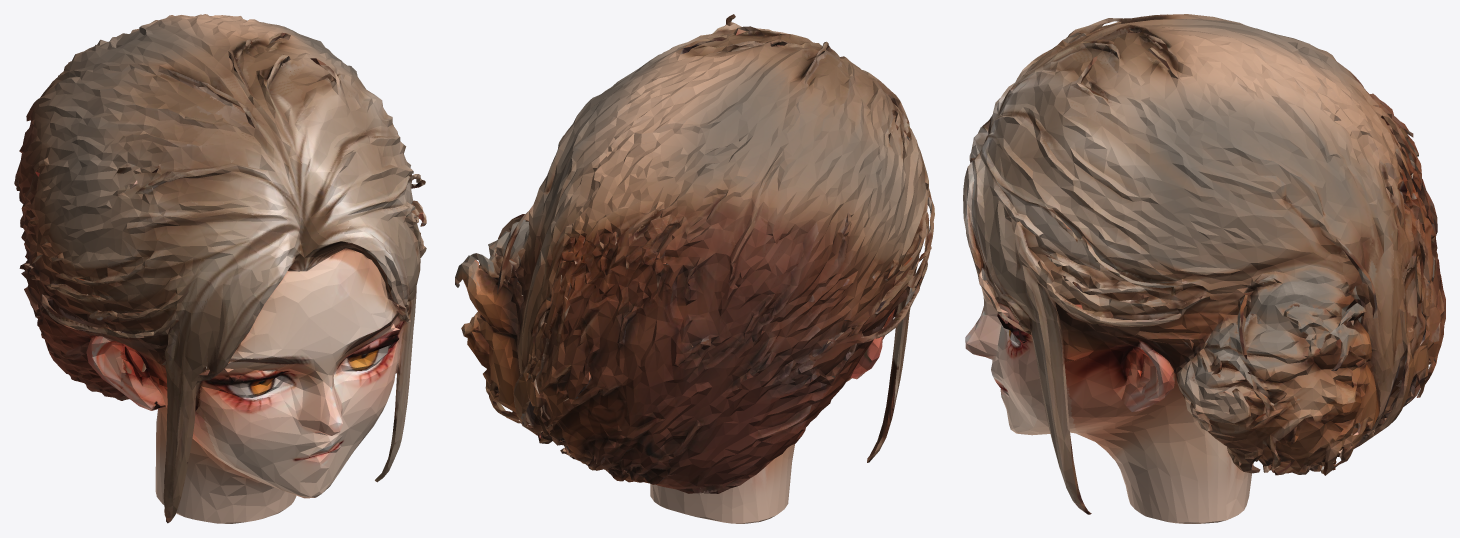
File: side_netmender_repaired_atlas.glb
The picture shows the model from 3 angles, left to right: view 1: azimuth 30°, elevation 25°; view 2: azimuth 150°, elevation 25°; view 3: azimuth 270°, elevation 25°; orthographic projection. The views are drawn at different scales.
Visible parts, largest first — view 1: temp_mesh.ply; view 2: temp_mesh.ply; view 3: temp_mesh.ply.
Boxes of the visible parts, x1,y1,x2,y2 form: temp_mesh.ply: (14, 14, 426, 523); temp_mesh.ply: (455, 14, 934, 523); temp_mesh.ply: (963, 14, 1445, 523).
Size of the model in its own units: 1.18 by 1.35 by 1.28.
1 material, 1 textured.
